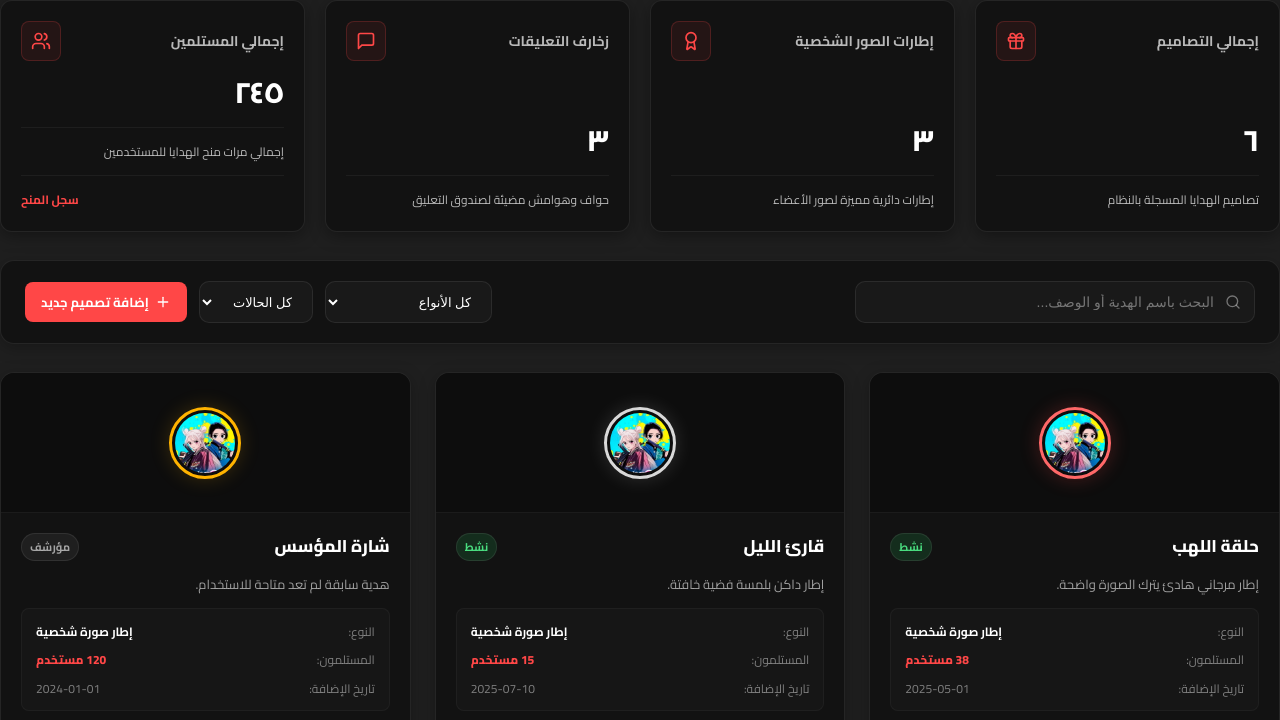
AdminGifts Component › filters gifts by search query
In the field named "البحث عن هدية": (1055, 302) left=855, top=281, right=1255, bottom=323, type "الذهبي"
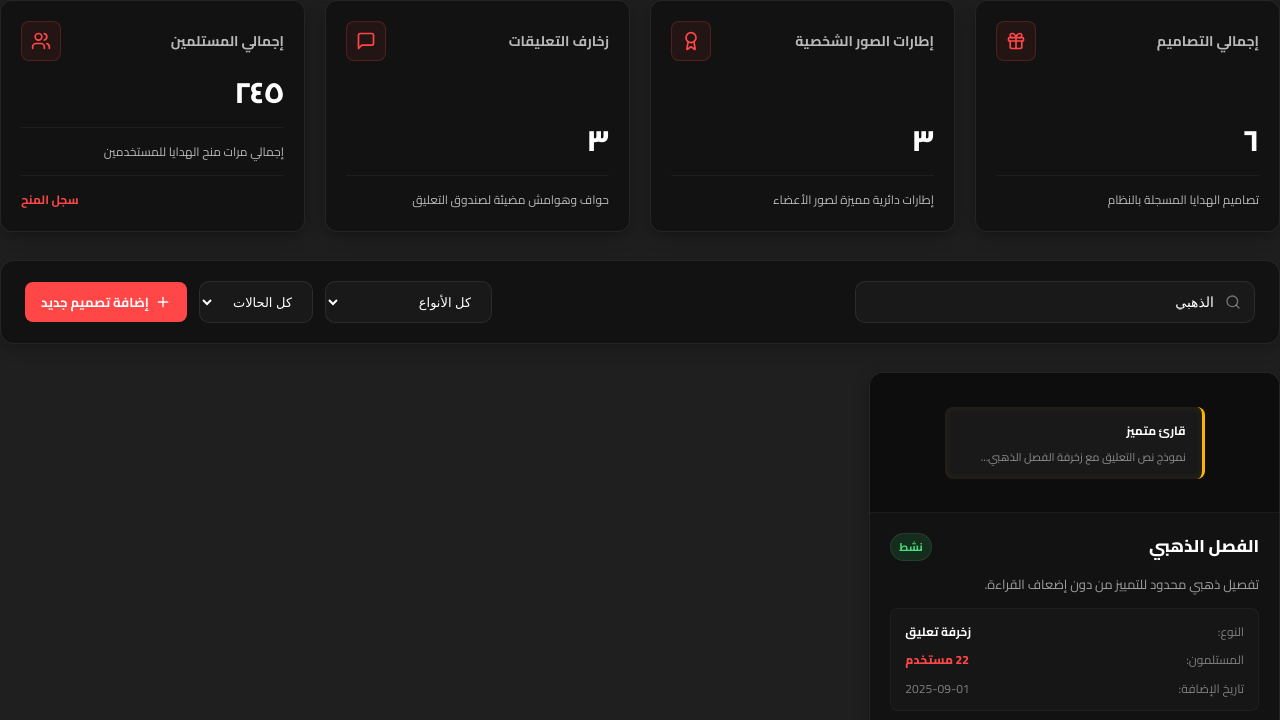
Expected: the heading "الفصل الذهبي" is shown, left=1149, top=534, right=1259, bottom=560
Expected: the heading "حلقة اللهب" is gone
